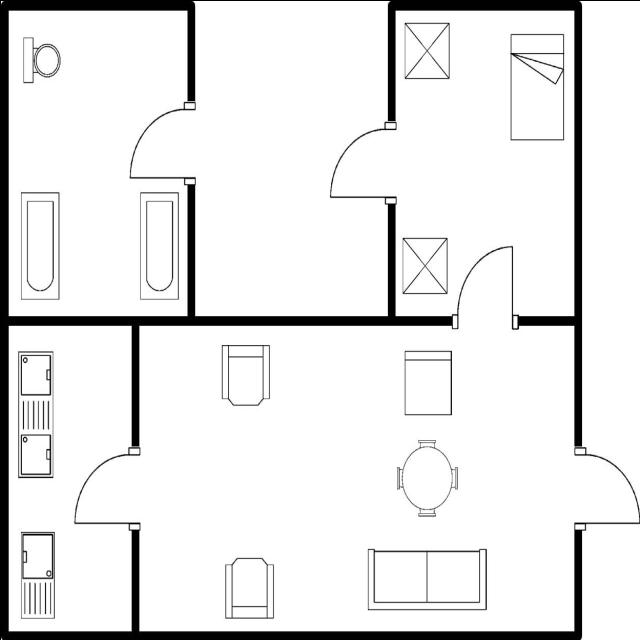armchair: (220, 552, 277, 622), (217, 340, 273, 410)
bed: (506, 29, 567, 147), (402, 20, 452, 86)
coffee_table: (398, 232, 451, 298)
large_sink: (18, 33, 63, 87)
large_sofa: (364, 544, 492, 614)
round_table: (392, 435, 464, 521)
sink: (15, 526, 58, 622)
small_sofa: (401, 346, 455, 419)
tub: (136, 186, 182, 302), (17, 188, 62, 304)
twin_sink: (14, 347, 56, 482)
